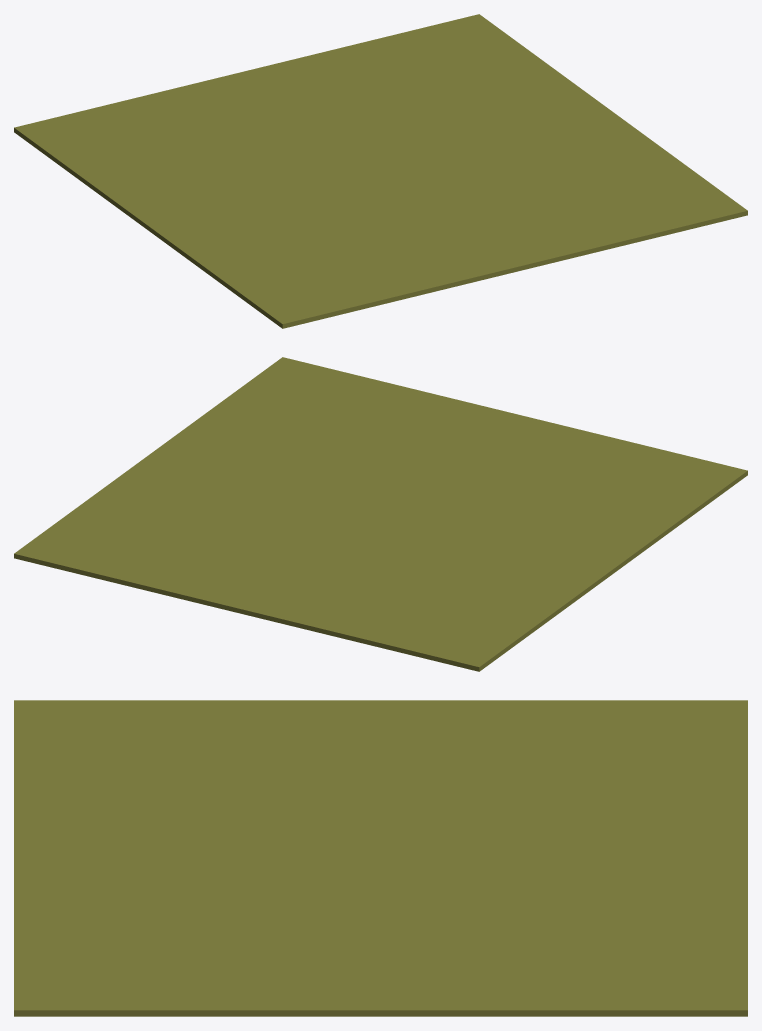
Rendered from Greed_GrassFloor.fbx.
The picture shows the model from 3 angles, top to bottom: view 1: azimuth 30°, elevation 25°; view 2: azimuth 150°, elevation 25°; view 3: azimuth 270°, elevation 25°; orthographic projection. The views are drawn at different scales.
Visible parts, largest first — view 1: Floor; view 2: Floor; view 3: Floor.
Boxes of the visible parts, x1,y1,x2,y2 form: Floor: (14,14,747,328); Floor: (14,357,747,671); Floor: (14,700,747,1016).
Size of the model in its own units: 42.83 by 0.4081 by 42.83.
